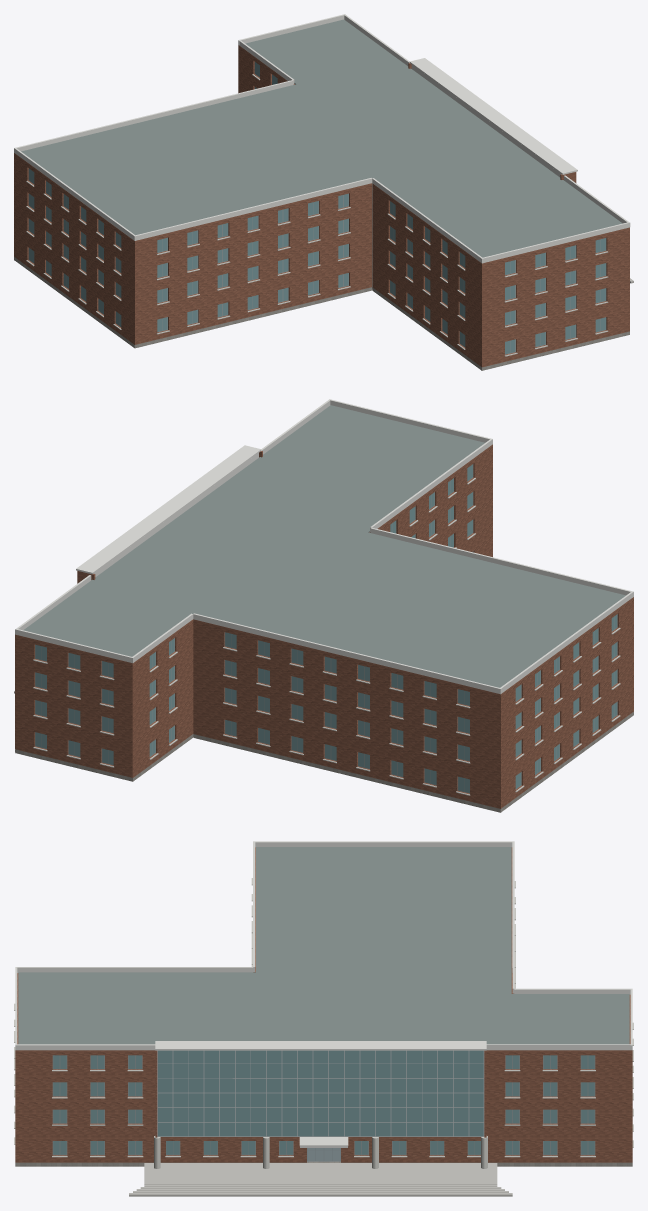
The picture shows the model from 3 angles, top to bottom: view 1: azimuth 30°, elevation 25°; view 2: azimuth 150°, elevation 25°; view 3: azimuth 270°, elevation 25°; orthographic projection. The views are drawn at different scales.
Visible parts, largest first — view 1: hwajeong__roof, hwajeong__wall, hwajeong__cap, hwajeong__glass, hwajeong__frame, hwajeong__plinth, hwajeong__band, hwajeong__foundation; view 2: hwajeong__roof, hwajeong__wall, hwajeong__cap, hwajeong__glass, hwajeong__frame, hwajeong__band, hwajeong__plinth, hwajeong__foundation; view 3: hwajeong__roof, hwajeong__wall, hwajeong__curtainglass, hwajeong__cap, hwajeong__portico-floor, hwajeong__glass, hwajeong__mullion, hwajeong__stone, hwajeong__band, hwajeong__frame, hwajeong__plinth, hwajeong__foundation.
Boxes of the visible parts, bbox=[...] form: hwajeong__roof: bbox=[21, 19, 622, 257]; hwajeong__wall: bbox=[14, 45, 629, 367]; hwajeong__cap: bbox=[14, 14, 630, 263]; hwajeong__glass: bbox=[29, 62, 605, 354]; hwajeong__frame: bbox=[28, 62, 606, 354]; hwajeong__plinth: bbox=[14, 183, 629, 369]; hwajeong__band: bbox=[26, 74, 608, 356]; hwajeong__foundation: bbox=[14, 259, 629, 370]; hwajeong__roof: bbox=[23, 405, 625, 687]; hwajeong__wall: bbox=[15, 444, 633, 808]; hwajeong__cap: bbox=[15, 399, 633, 694]; hwajeong__glass: bbox=[35, 464, 617, 792]; hwajeong__frame: bbox=[35, 464, 617, 793]; hwajeong__band: bbox=[33, 478, 620, 795]; hwajeong__plinth: bbox=[15, 532, 633, 811]; hwajeong__foundation: bbox=[15, 712, 633, 812]; hwajeong__roof: bbox=[18, 847, 629, 1044]; hwajeong__wall: bbox=[15, 847, 632, 1162]; hwajeong__curtainglass: bbox=[158, 1050, 483, 1136]; hwajeong__cap: bbox=[15, 841, 632, 1146]; hwajeong__portico-floor: bbox=[144, 1163, 497, 1184]; hwajeong__glass: bbox=[53, 1055, 594, 1154]; hwajeong__mullion: bbox=[157, 1050, 484, 1136]; hwajeong__stone: bbox=[129, 1185, 512, 1196]; hwajeong__band: bbox=[14, 878, 633, 1168]; hwajeong__frame: bbox=[52, 1055, 595, 1155]; hwajeong__plinth: bbox=[15, 1161, 632, 1165]; hwajeong__foundation: bbox=[15, 1163, 632, 1166].
Bounding box in the file's own units: 64.61 × 16 × 72.32.
14 materials, 4 textured.
